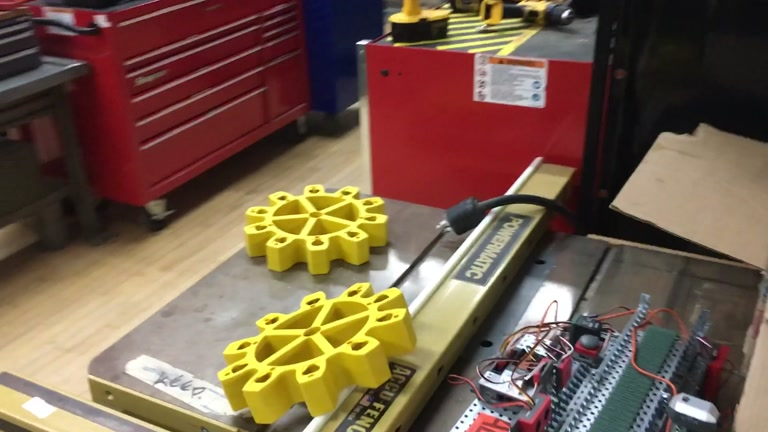gear: (217, 282, 417, 424), (243, 183, 388, 277)
